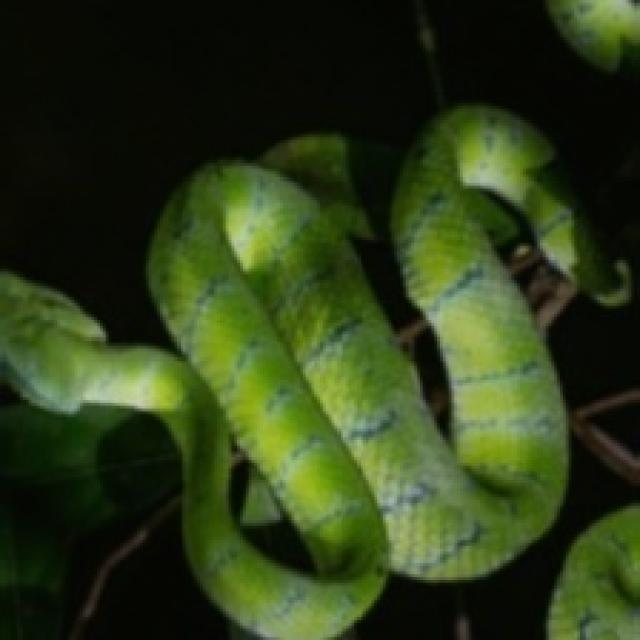north ph temple pitviper: (0, 106, 626, 637), (549, 506, 637, 637), (229, 449, 309, 569)
